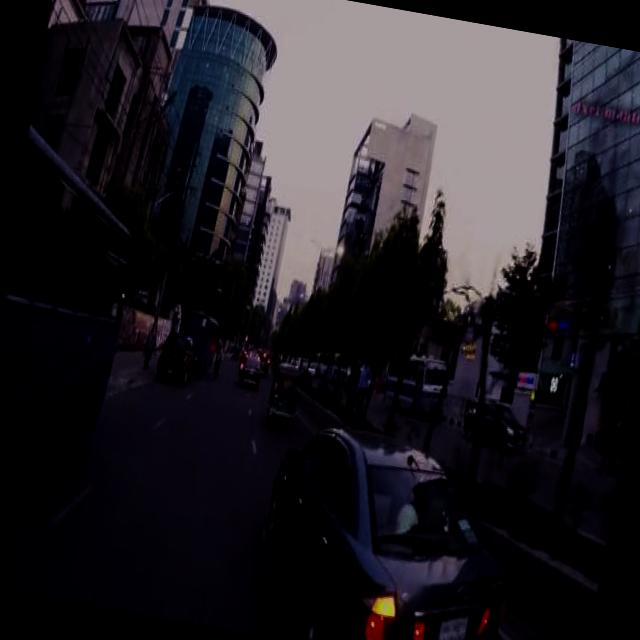bus: (0, 116, 152, 529), (379, 346, 446, 412), (174, 304, 220, 368)
car: (246, 410, 535, 640), (458, 392, 530, 451), (154, 324, 200, 382), (237, 348, 264, 384)
motorcycle: (264, 356, 306, 424)
